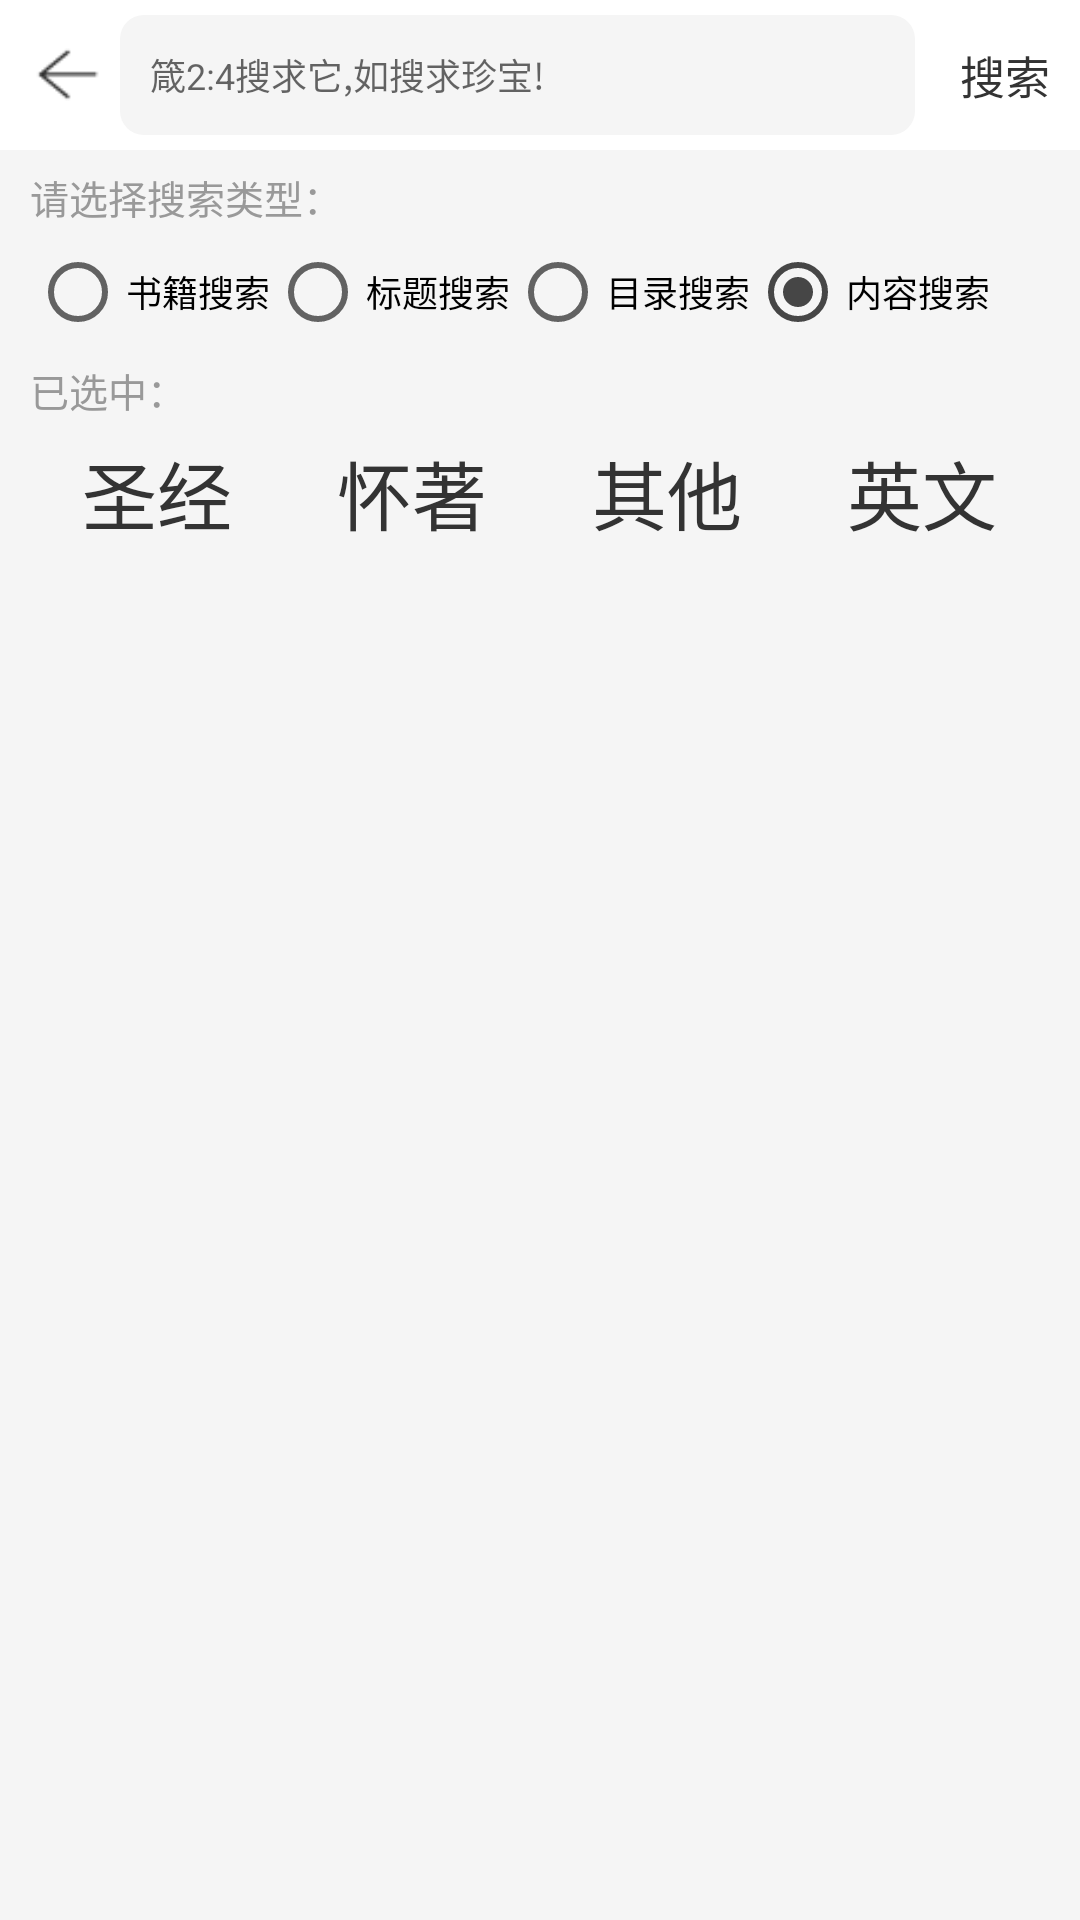

Screen size 1080w x 1920h. Icon name, then its center in pixels as [x,y]:
left: [68,74]
